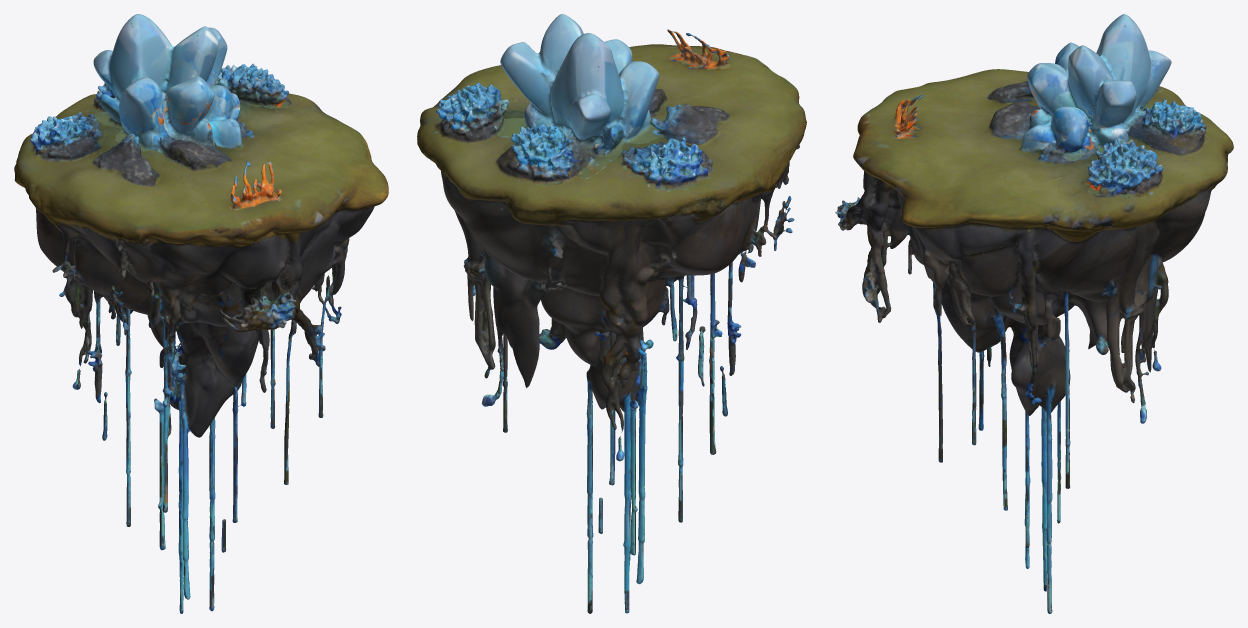
The model's file is Meshy_AI_Ethereal_Crystal_Isla_1017055954_texture.fbx.
3 renders of one model, left to right at view 1: azimuth 30°, elevation 25°; view 2: azimuth 150°, elevation 25°; view 3: azimuth 270°, elevation 25°, orthographic. The views are drawn at different scales.
Visible parts, largest first — view 1: Mesh_0; view 2: Mesh_0; view 3: Mesh_0.
Boxes of the visible parts, x1=… form: Mesh_0: x1=14, y1=14, x2=388, y2=613; Mesh_0: x1=417, y1=14, x2=806, y2=613; Mesh_0: x1=835, y1=14, x2=1233, y2=613.
Size of the model in its own units: 109 by 197 by 122.
1 material, 1 textured.
